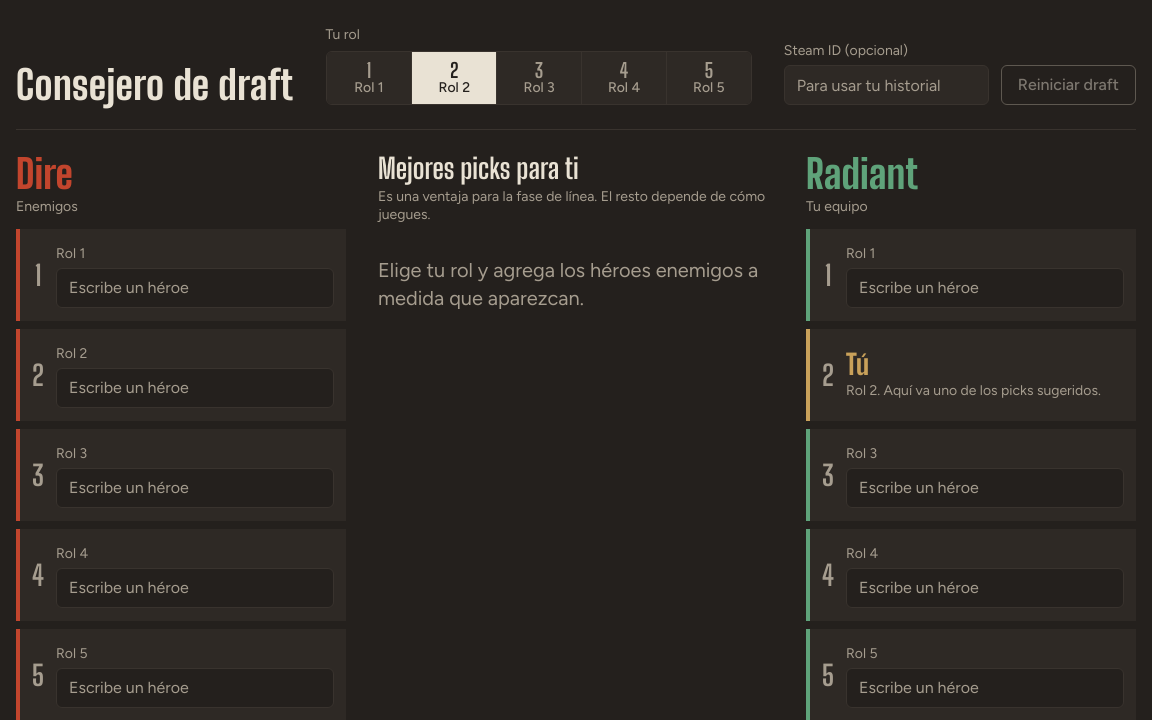
Scenario: App › elegir un enemigo pide sugerencias con el nombre exacto, mueve el foco y permite reiniciar
// espera a que cargue la lista de héroes
Type "am" into the dropdown named "enemigo, posición 1". click: (195, 288)
box: left=56, top=268, right=334, bottom=308
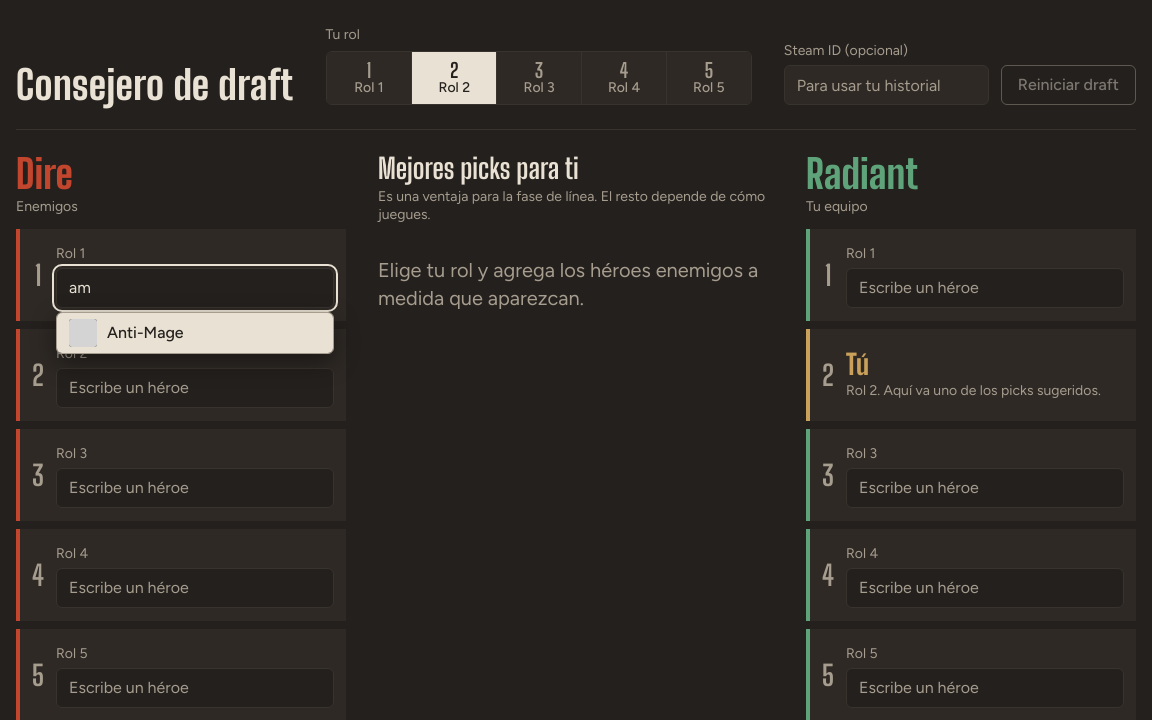
Check: the option "Anti-Mage" is shown, box left=57, top=312, right=333, bottom=352
Press Enter
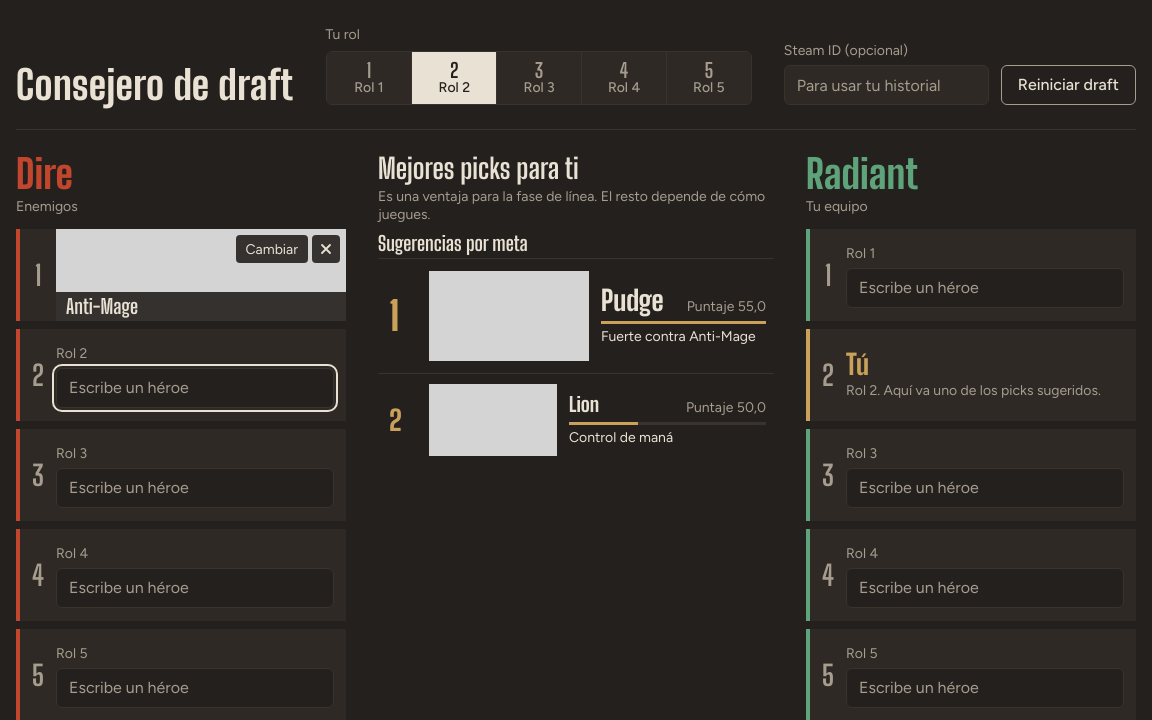
Check: the button "1 Pudge Puntaje 55,0 Fuerte contra Anti-Mage" is shown, box left=378, top=259, right=774, bottom=373
Click the button "Reiniciar draft". click: (1068, 85)
box: left=1001, top=65, right=1136, bottom=105
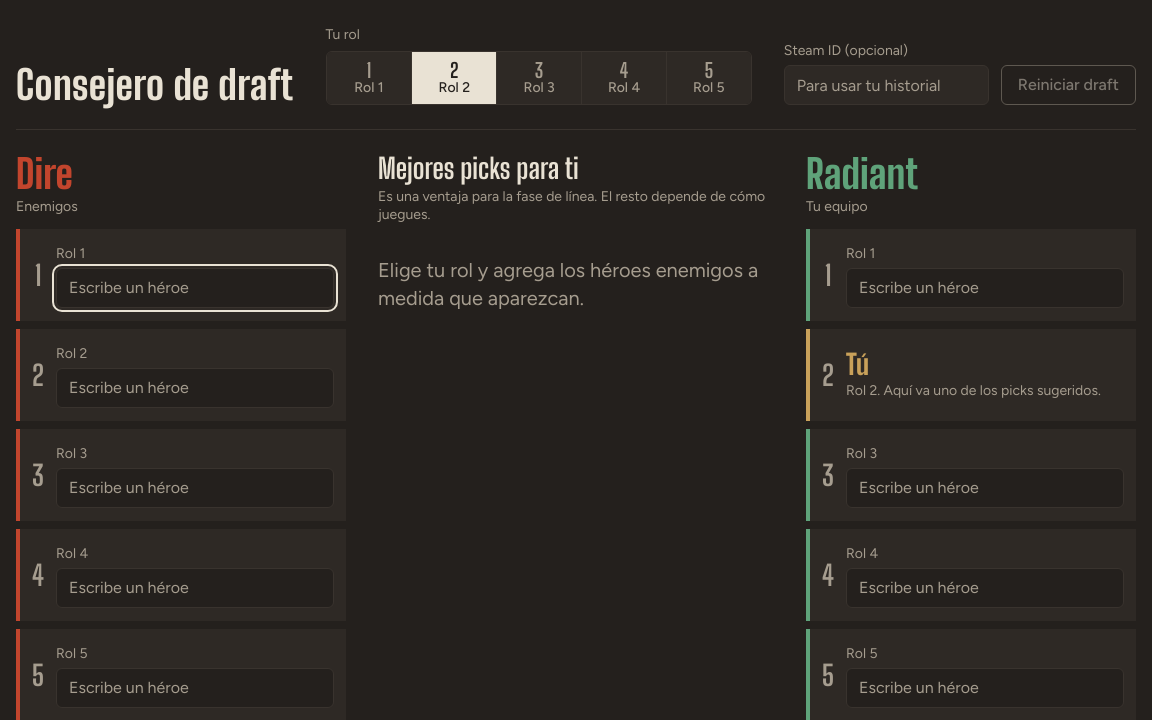
Check: the text with alt text "Anti-Mage" is gone
Check: the text "Elige tu rol y agrega" is shown, box left=378, top=258, right=758, bottom=310
